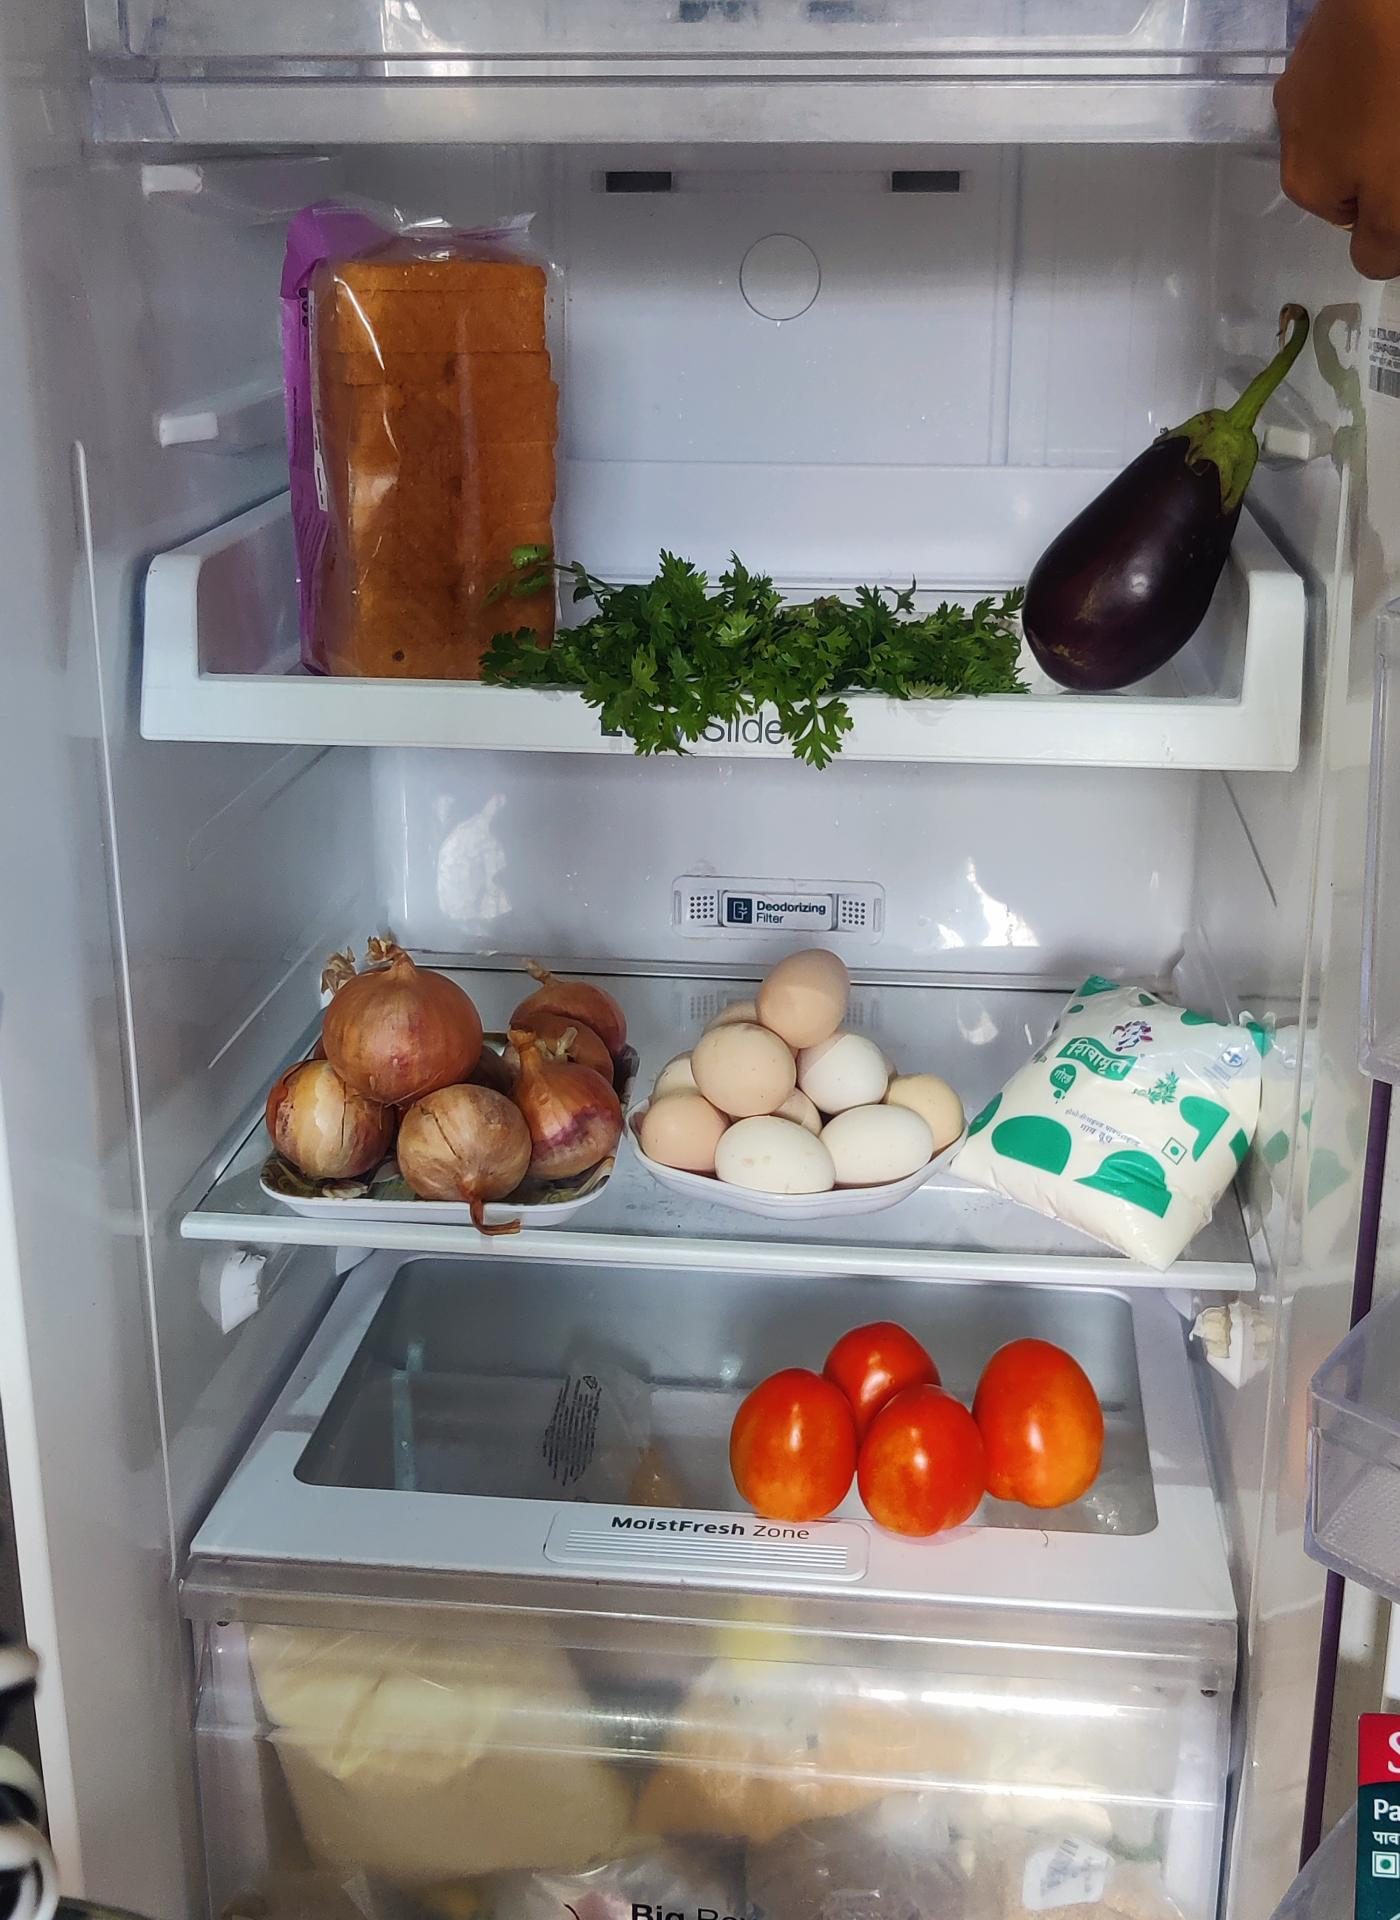bread: (282, 206, 574, 666)
brinjal: (1023, 404, 1272, 707)
coriander: (568, 559, 1016, 725)
egg: (638, 966, 956, 1209)
milk: (968, 980, 1262, 1258)
onion: (268, 928, 638, 1201)
tomato: (732, 1324, 1115, 1539)
